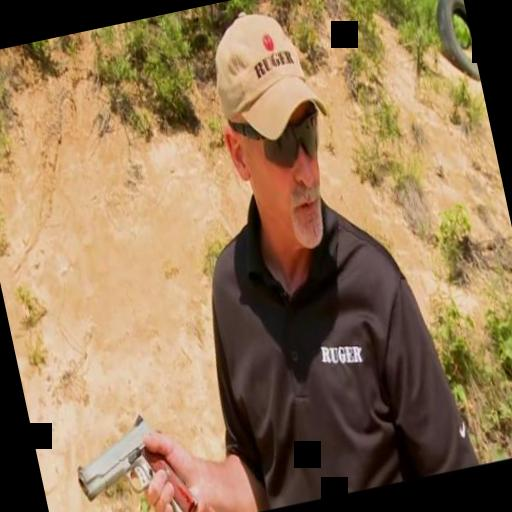Handgun: (66, 405, 202, 512)
